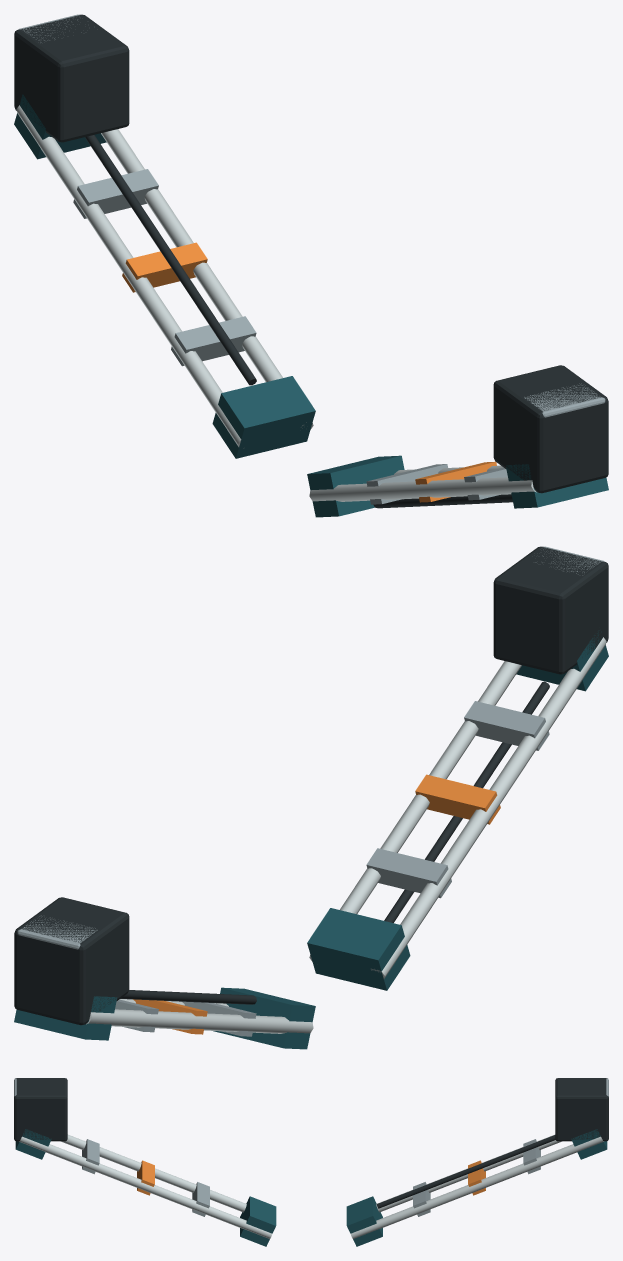
Rendered from SM_TrackTieWeb.fbx.
3 renders of one model, top to bottom at view 1: azimuth 30°, elevation 25°; view 2: azimuth 150°, elevation 25°; view 3: azimuth 270°, elevation 25°, orthographic. The views are drawn at different scales.
Parts seen in each view (by area): view 1: SM_TrackTieWeb_UEExport; view 2: SM_TrackTieWeb_UEExport; view 3: SM_TrackTieWeb_UEExport.
Boxes of the visible parts, x1,y1,x2,y2 form: SM_TrackTieWeb_UEExport: (14,14,608,517); SM_TrackTieWeb_UEExport: (14,546,608,1049); SM_TrackTieWeb_UEExport: (14,1078,608,1246).
Bounding box in the file's own units: 11 × 133 × 37.07.
